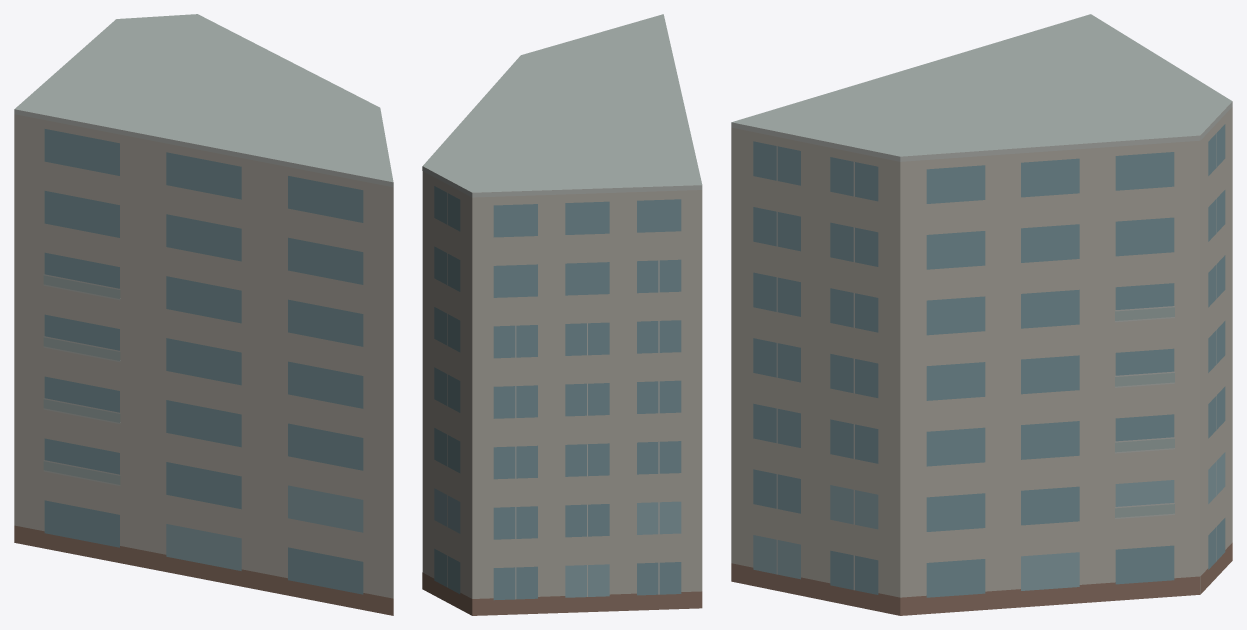
The model's file is survey-upis-32870019.glb.
The picture shows the model from 3 angles, left to right: view 1: azimuth 30°, elevation 25°; view 2: azimuth 150°, elevation 25°; view 3: azimuth 270°, elevation 25°; orthographic projection. The views are drawn at different scales.
Visible parts, largest first — view 1: survey-upis-32870019.tmp; view 2: survey-upis-32870019.tmp; view 3: survey-upis-32870019.tmp.
Boxes of the visible parts, x1,y1,x2,y2 form: survey-upis-32870019.tmp: (14,14,393,615); survey-upis-32870019.tmp: (422,14,702,615); survey-upis-32870019.tmp: (731,14,1232,615).
Size of the model in its own units: 14.3 by 21.45 by 21.23.
